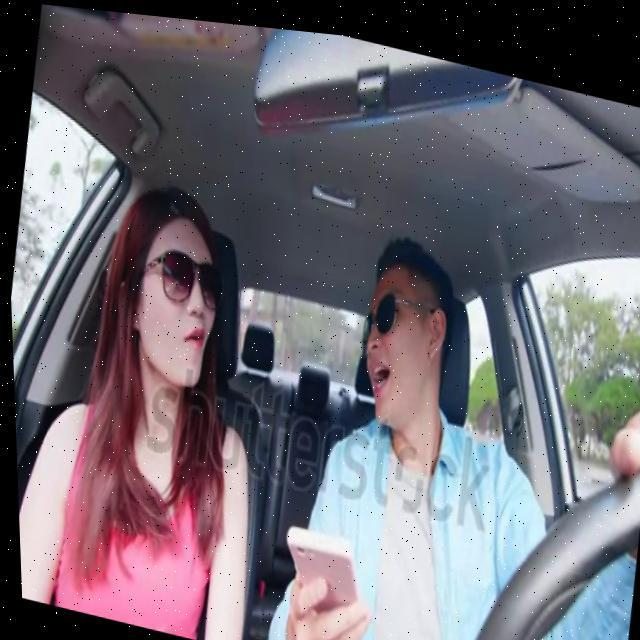PhoneCall: (268, 509, 375, 640)
